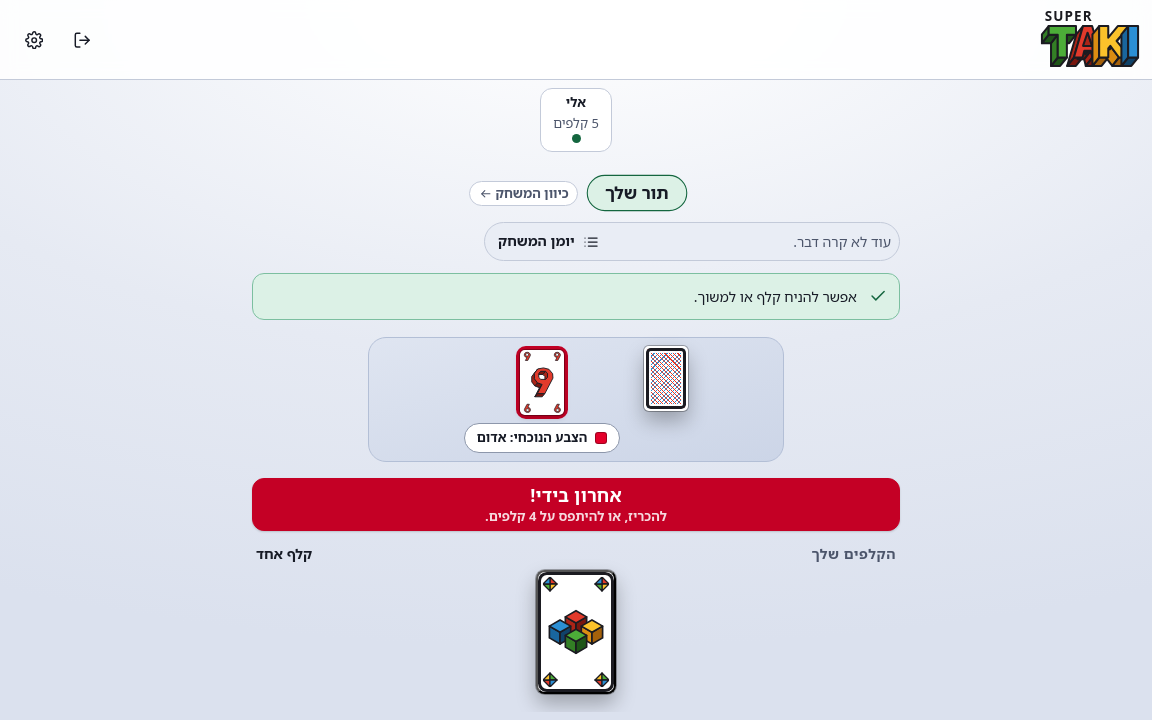
Test: wild cards and the colour picker › can be cancelled without playing anything
What coordinates should you click on to do the following:
click the button named "הנחת שינוי צבע"
I would click on:
 (576, 632)
Its box is [536,570,616,694].
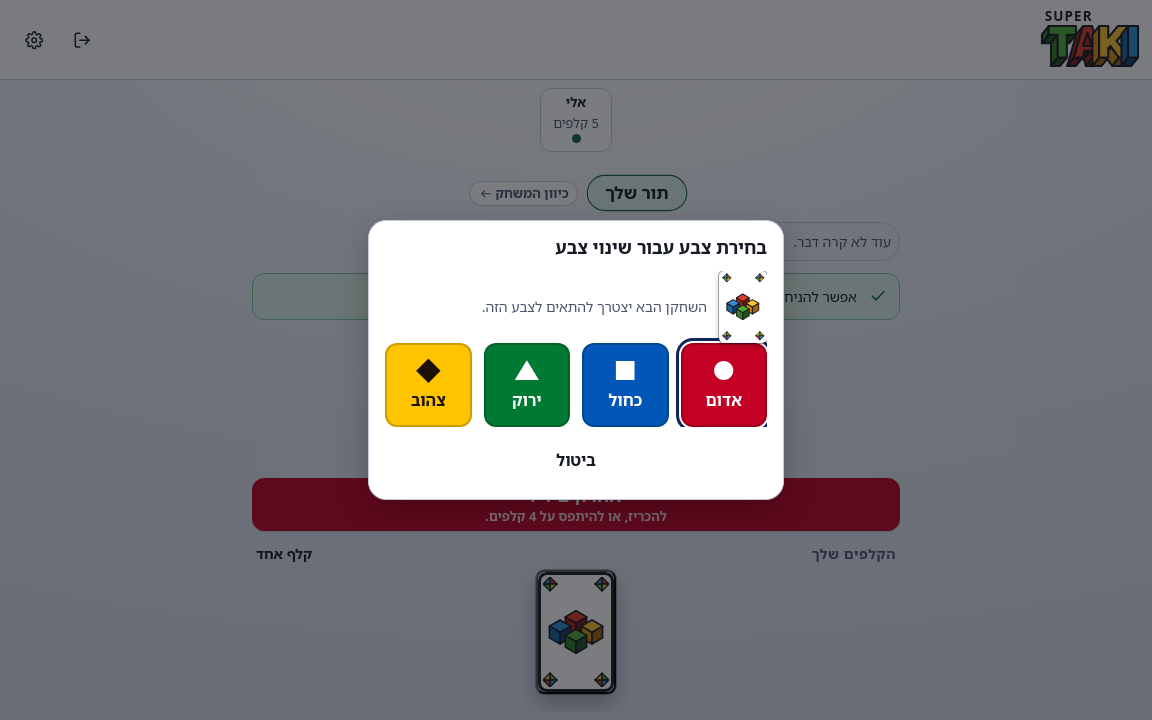
What coordinates should you click on to do the following:
click the button "ביטול"
I would click on:
 (576, 461)
Its box is [385,439,767,483].
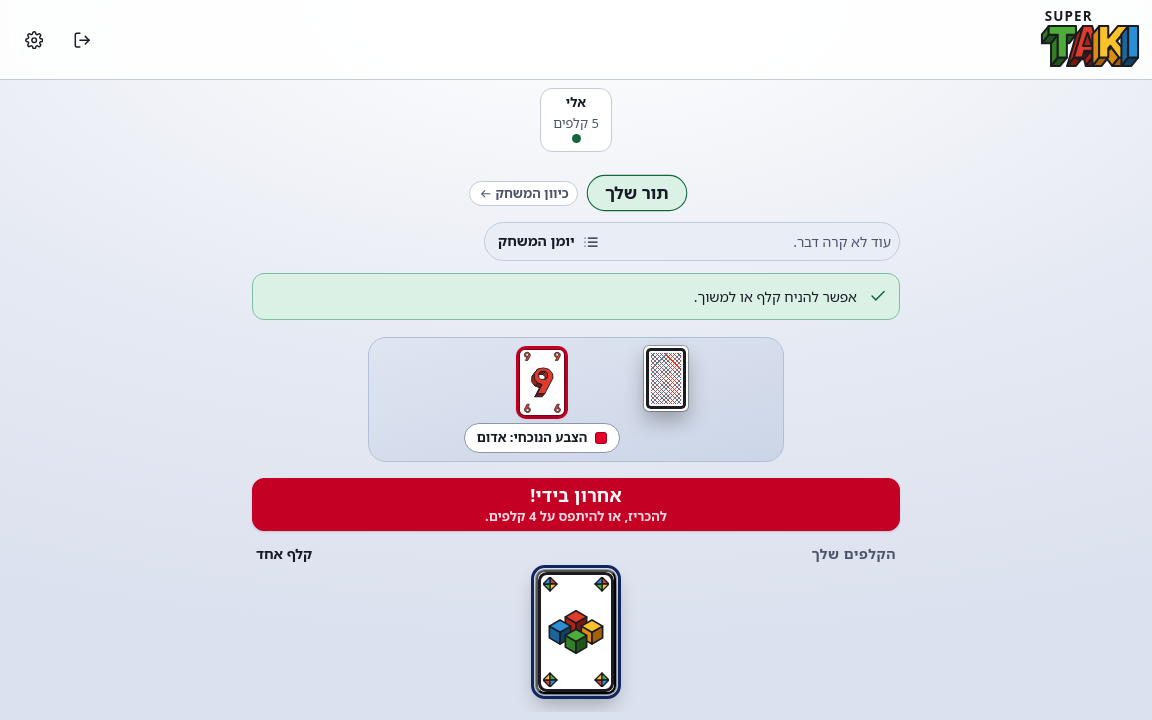
Result: the dialog is gone
